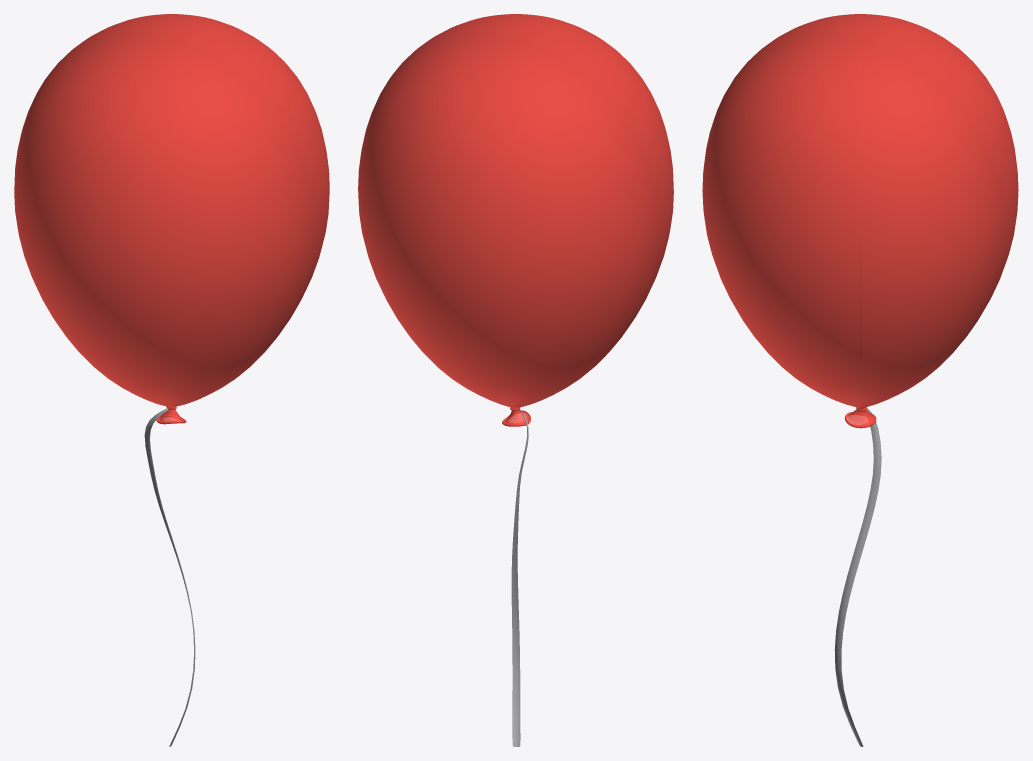
Rendered from balloon_old.glb.
The picture shows the model from 3 angles, left to right: view 1: azimuth 30°, elevation 25°; view 2: azimuth 150°, elevation 25°; view 3: azimuth 270°, elevation 25°; orthographic projection.
Parts seen in each view (by area): view 1: Balloon; view 2: Balloon; view 3: Balloon.
Boxes of the visible parts, bbox=[...] form: Balloon: bbox=[14, 14, 329, 746]; Balloon: bbox=[358, 14, 673, 746]; Balloon: bbox=[702, 14, 1018, 746].
Bounding box in the file's own units: 0.311 × 0.7806 × 0.311.
